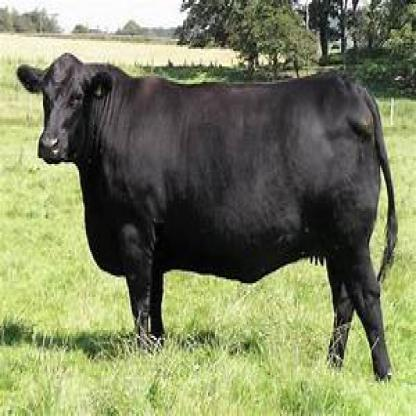cow: (17, 53, 398, 379)
